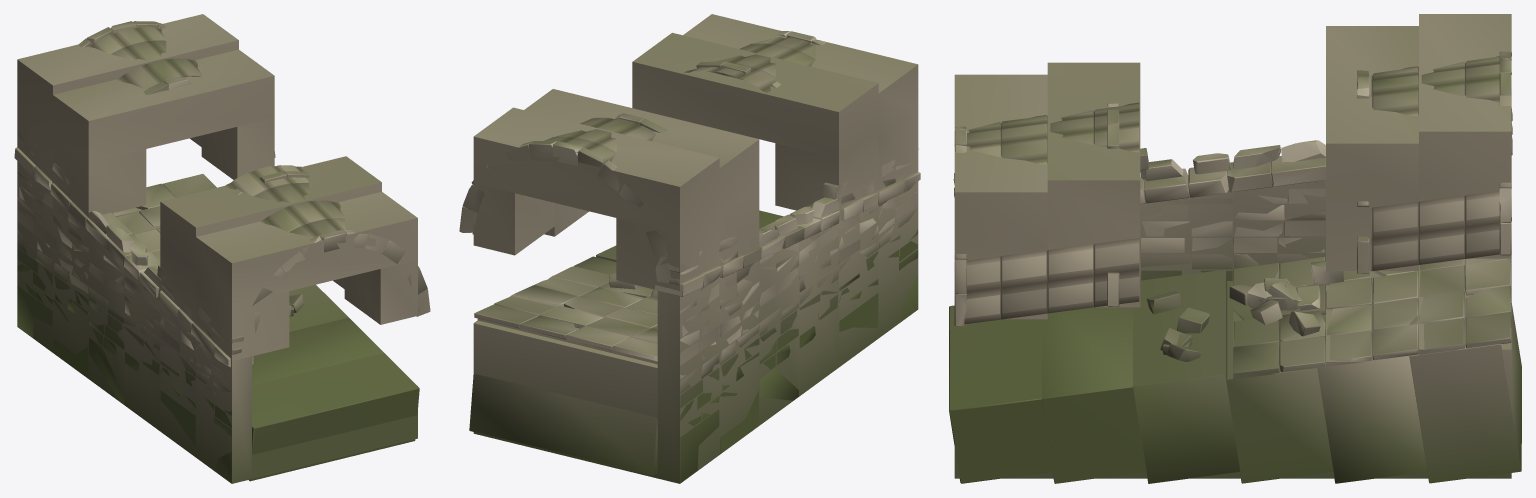
File: harbour_shed_broken.glb
The picture shows the model from 3 angles, left to right: view 1: azimuth 30°, elevation 25°; view 2: azimuth 150°, elevation 25°; view 3: azimuth 270°, elevation 25°; orthographic projection. The views are drawn at different scales.
Parts seen in each view (by area): view 1: harbour_shed_broken_far, harbour_shed_broken; view 2: harbour_shed_broken_far, harbour_shed_broken; view 3: harbour_shed_broken, harbour_shed_broken_far.
Boxes of the visible parts, x1,y1,x2,y2 form: harbour_shed_broken_far: (17,14,417,483); harbour_shed_broken: (14,21,430,482); harbour_shed_broken_far: (473,14,918,483); harbour_shed_broken: (459,31,920,482); harbour_shed_broken: (949,51,1521,483); harbour_shed_broken_far: (954,14,1511,478).
Size of the model in its own units: 30.12 by 40.27 by 57.09.
